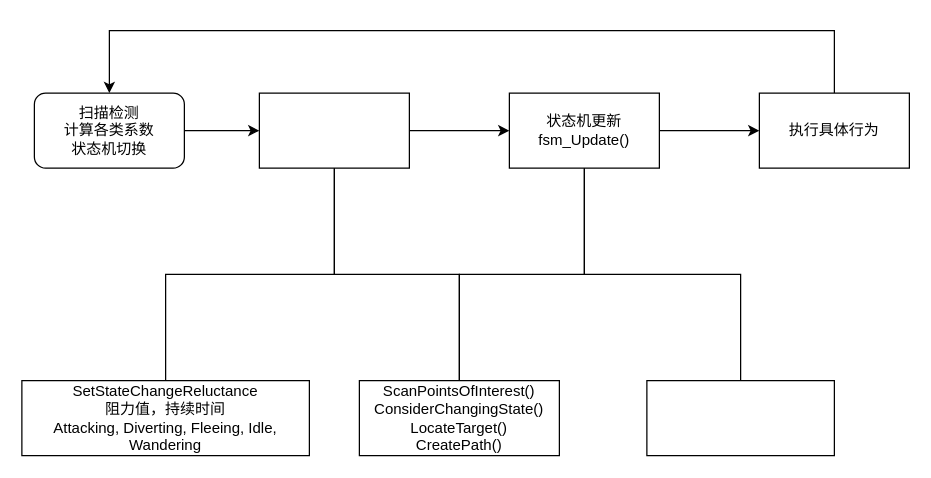
This 931x478 diagram has some shape labels left out. The shapes that lost their labels are listed below. From the top down, each one's centre as x and y in pixels, then its label:
(x=333, y=130): 进入某个状态机 fsm_Enter()
(x=740, y=417): MoveOnPath()
